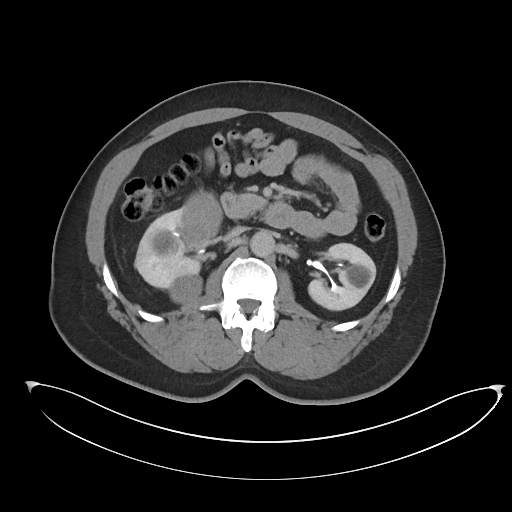Lesion: (174, 185, 223, 254)
